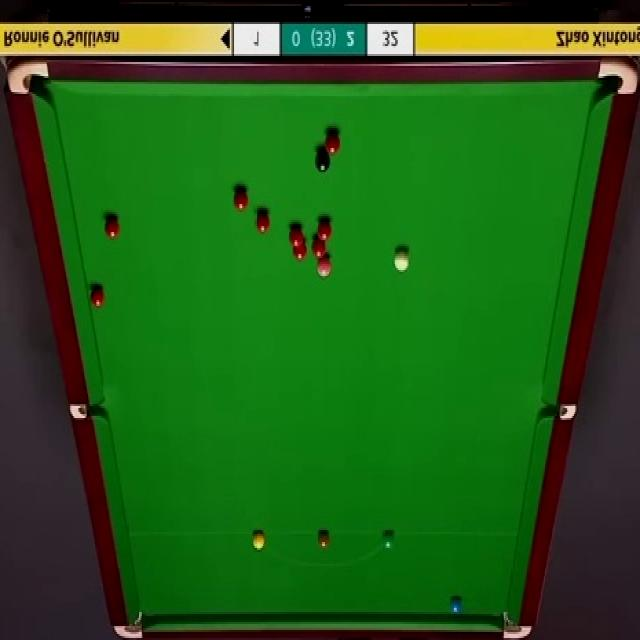pocket: (597, 54, 639, 101), (7, 58, 50, 98), (113, 611, 144, 640), (500, 611, 532, 638), (543, 402, 578, 420), (67, 403, 106, 419)
